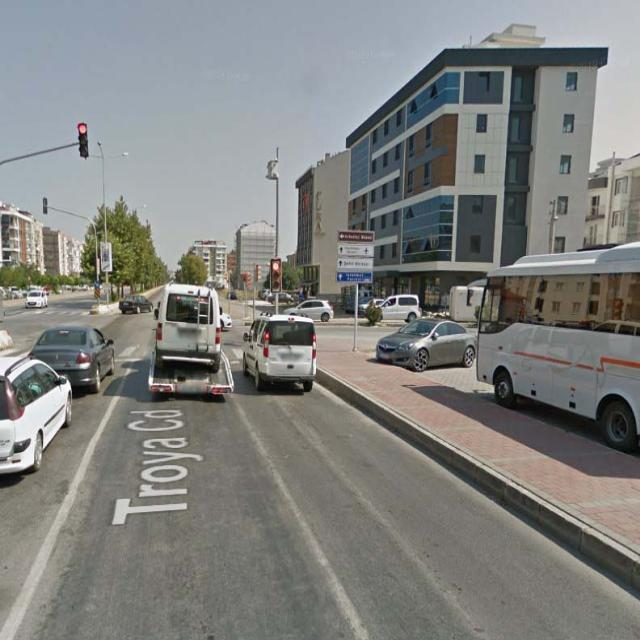kirmizi: (78, 122, 87, 155), (272, 260, 280, 293)
